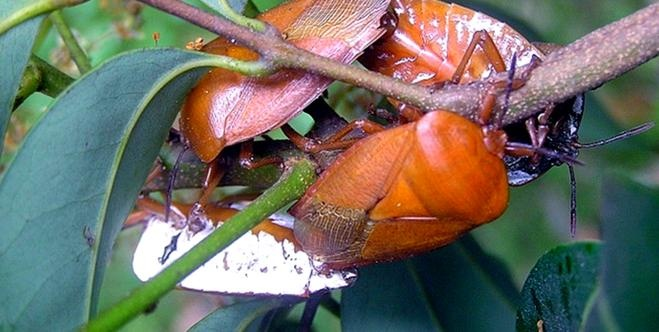Stink_Bug: (376, 6, 575, 161), (351, 109, 515, 278), (181, 0, 358, 151), (125, 181, 340, 287)
